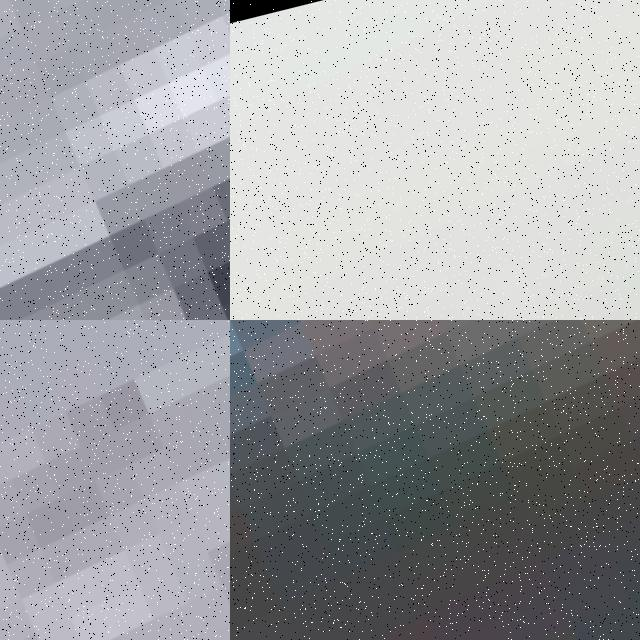drone: (230, 0, 640, 320), (230, 320, 640, 640), (0, 0, 230, 320), (0, 320, 230, 640)
